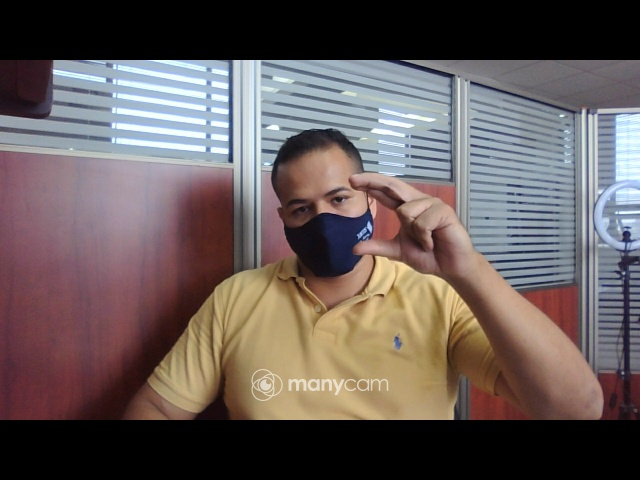No: (348, 173, 480, 286)
